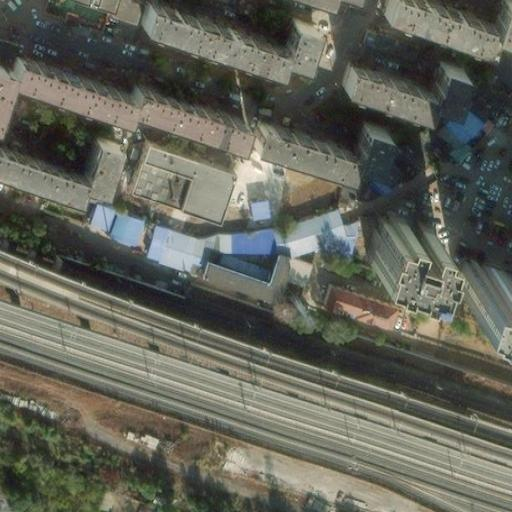building: (136, 0, 310, 63), (244, 114, 379, 170), (121, 133, 224, 206), (136, 218, 259, 275), (122, 78, 237, 136), (0, 129, 108, 189), (339, 58, 460, 108), (381, 0, 512, 42), (192, 248, 282, 300), (358, 201, 426, 266), (263, 206, 348, 251), (433, 83, 491, 147), (445, 253, 512, 307), (317, 281, 390, 323), (78, 195, 136, 243), (356, 25, 421, 67), (188, 220, 267, 248), (274, 253, 302, 284), (463, 209, 498, 232), (419, 169, 447, 193), (446, 181, 462, 214), (241, 190, 263, 212)
